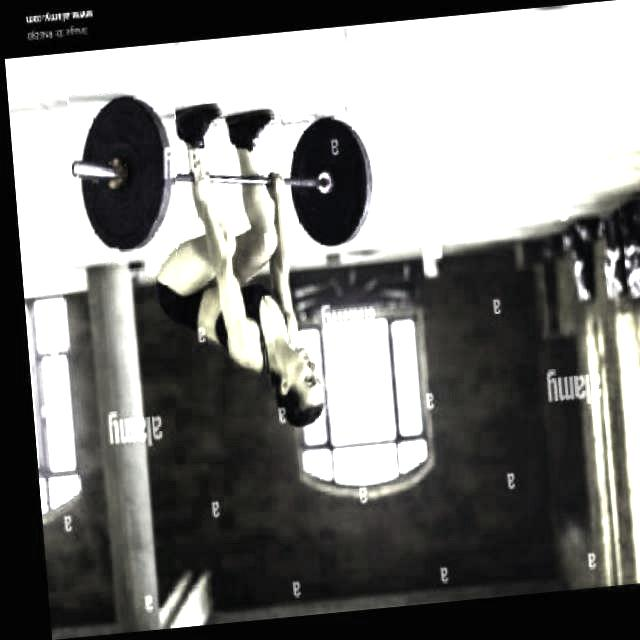barbell: (59, 88, 181, 266)
